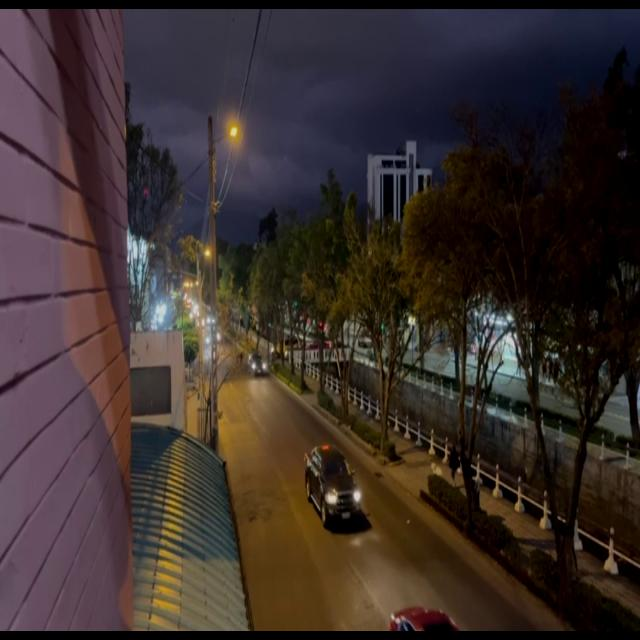CMT: (303, 442, 354, 518)
